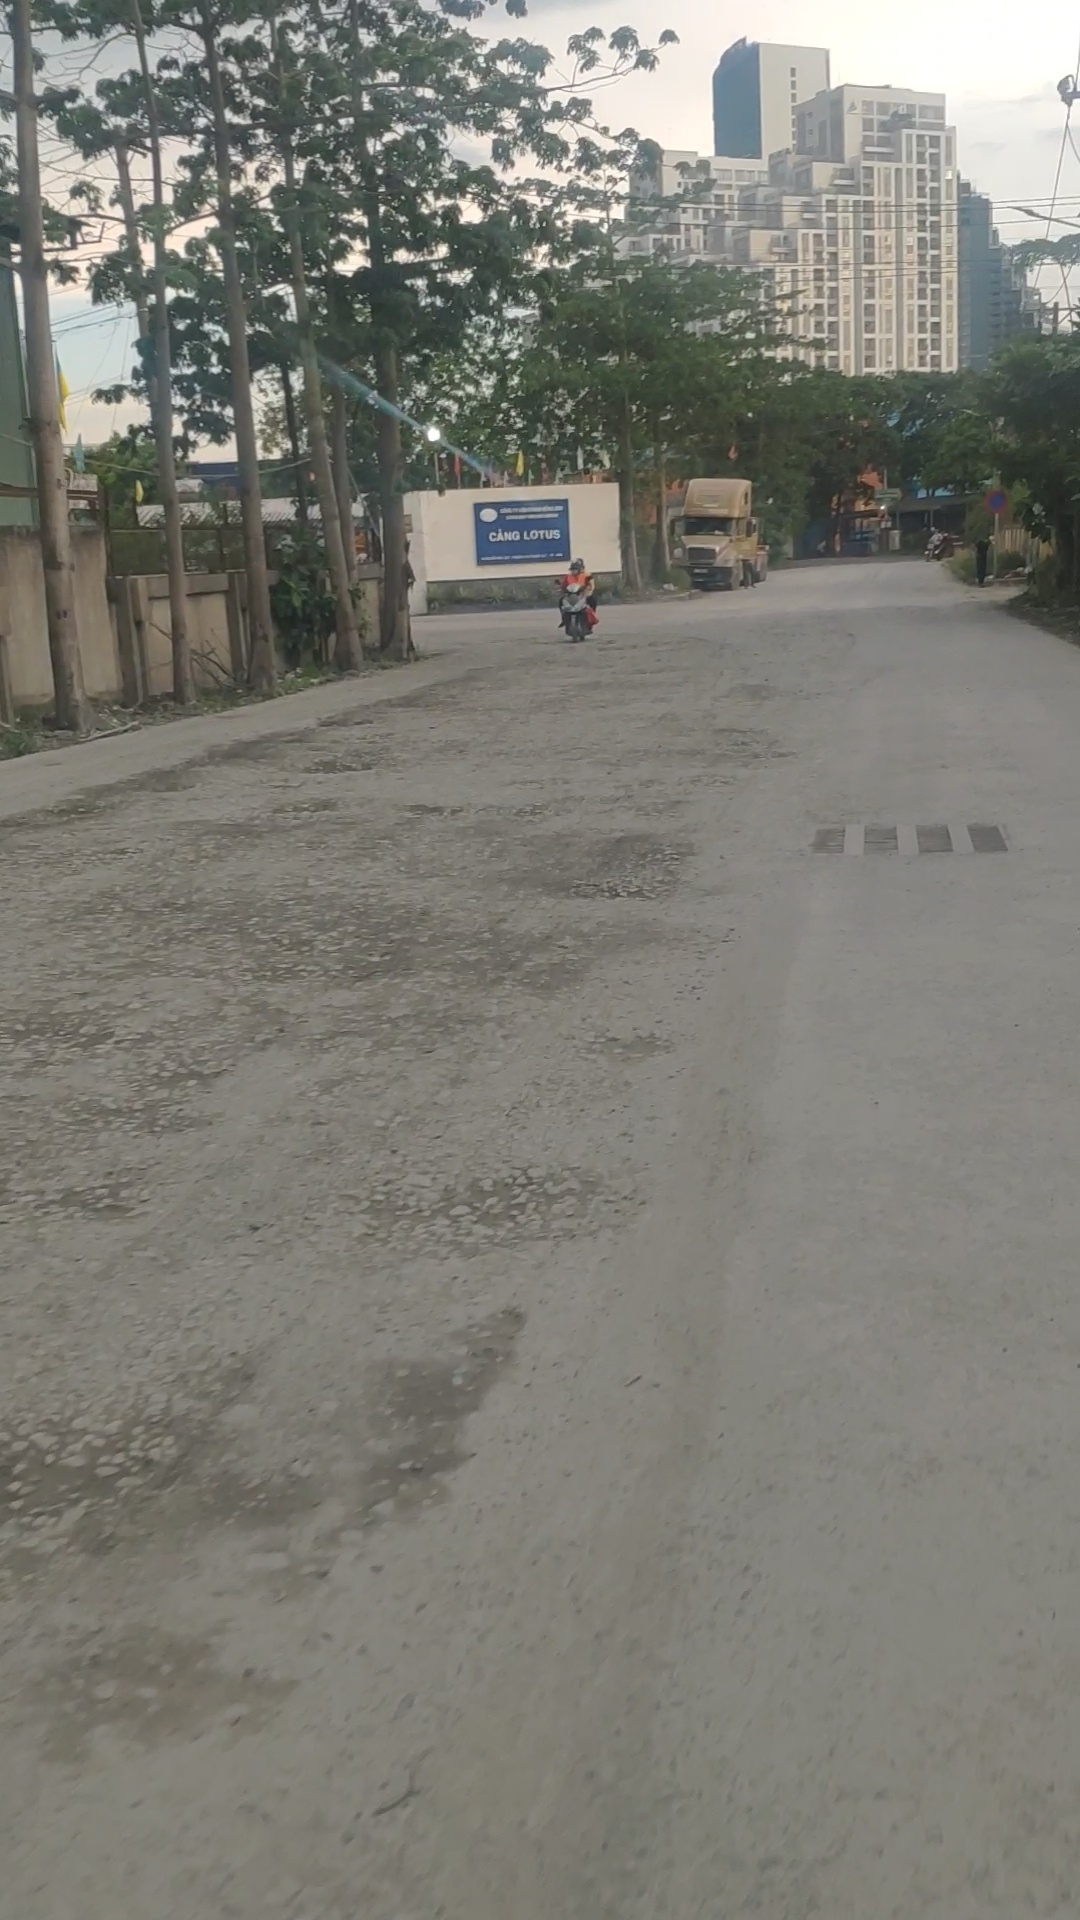hole: (342, 1149, 638, 1262), (525, 818, 720, 913), (700, 721, 800, 770), (269, 748, 386, 783), (115, 767, 206, 800), (386, 794, 488, 822), (264, 793, 359, 822), (378, 691, 454, 709), (315, 712, 378, 729)
